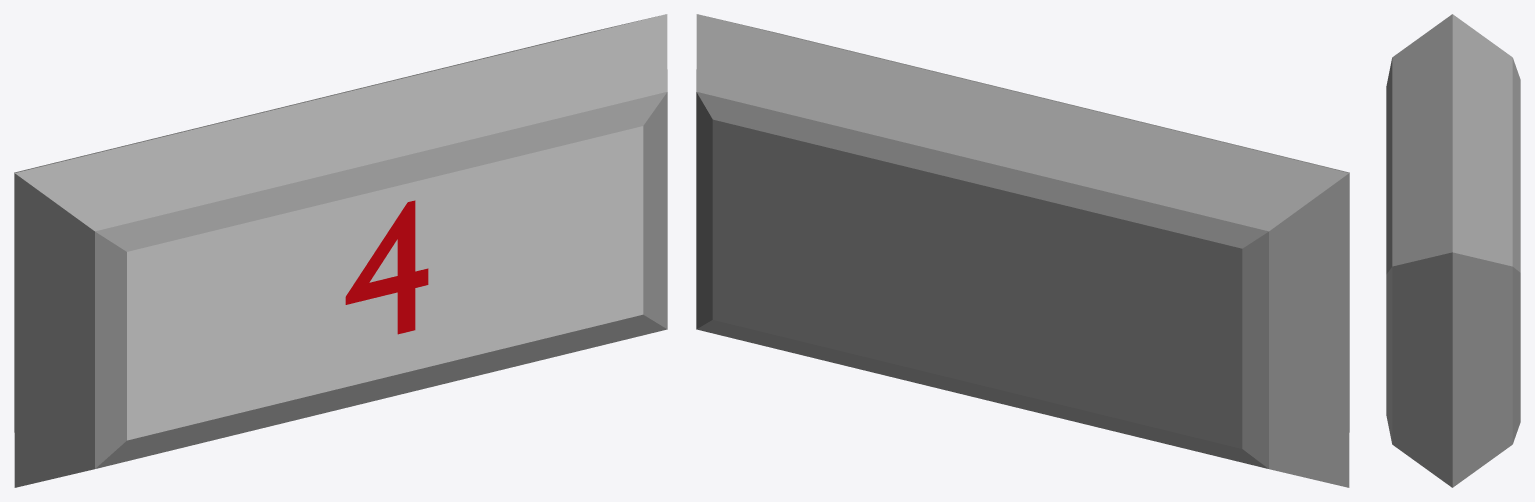
Rendered from number4.fbx.
The picture shows the model from 3 angles, left to right: view 1: azimuth 30°, elevation 25°; view 2: azimuth 150°, elevation 25°; view 3: azimuth 270°, elevation 25°; orthographic projection. The views are drawn at different scales.
Parts seen in each view (by area): view 1: Cube, Text; view 2: Cube; view 3: Cube.
Part boxes in pixels (bbox=[...]): Cube: bbox=[14, 14, 667, 487]; Text: bbox=[345, 200, 428, 334]; Cube: bbox=[696, 14, 1349, 487]; Cube: bbox=[1386, 14, 1520, 487].
Size of the model in its own units: 1735 by 800 by 437.
